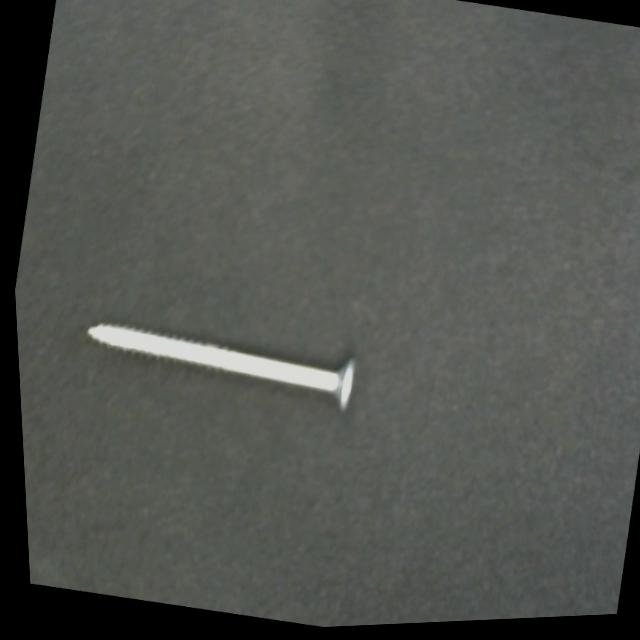WoodScrew: (74, 305, 358, 425)
